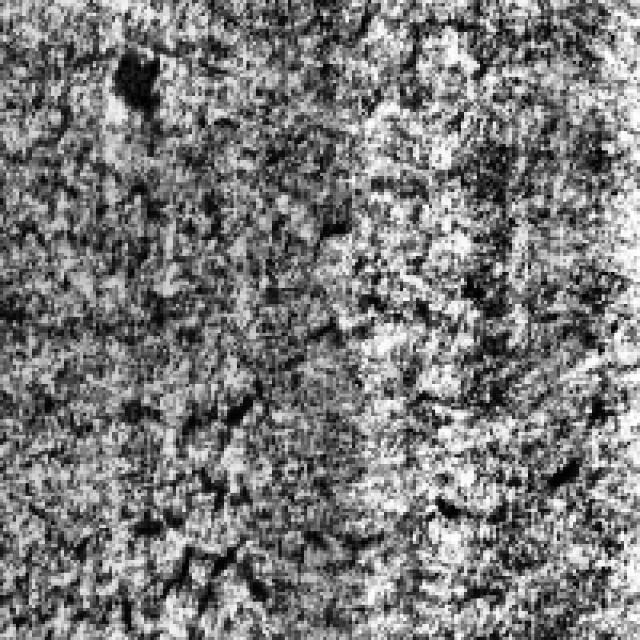Pitted_Surface: (0, 383, 390, 630), (0, 102, 355, 368)
